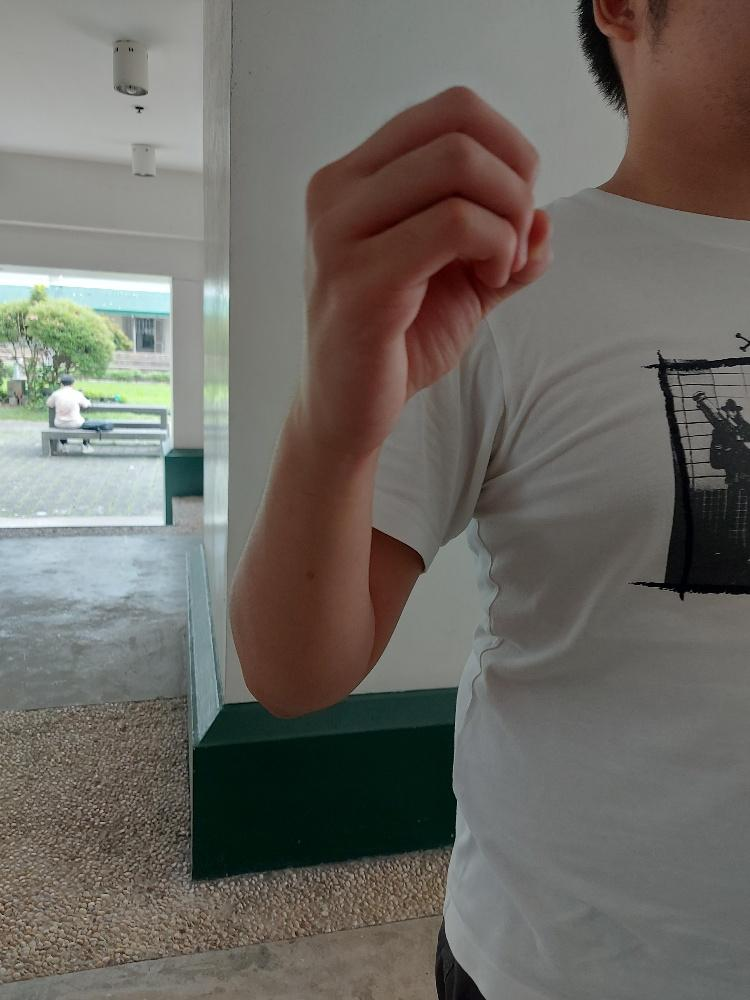o: (304, 83, 555, 449)
